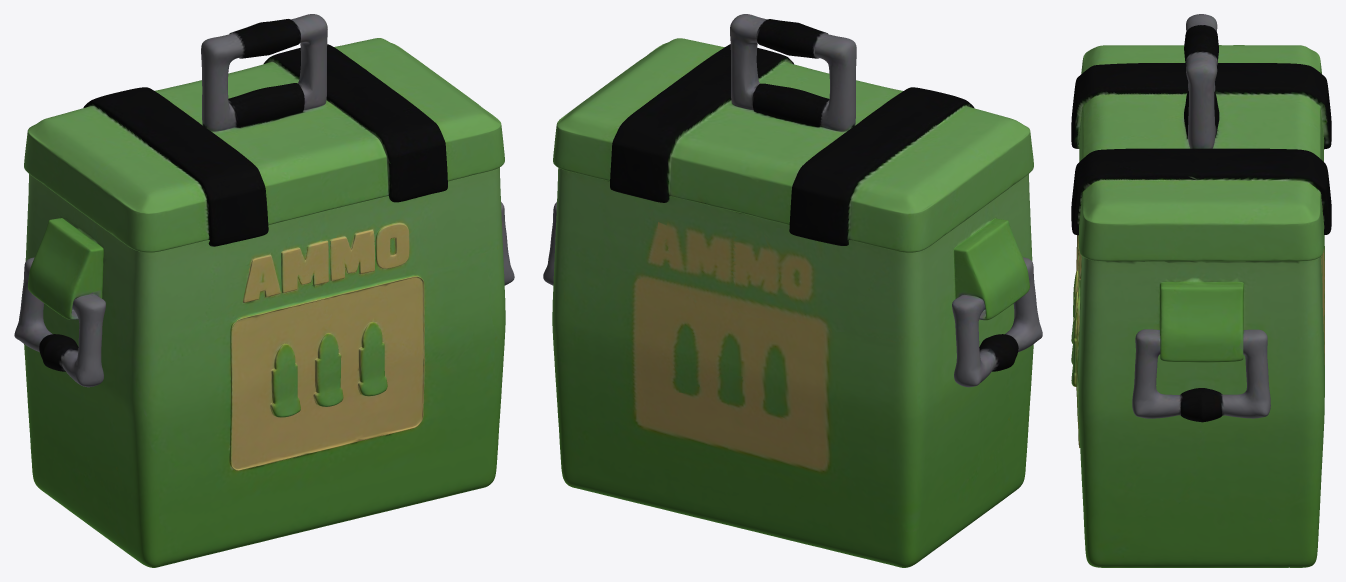
The model's file is tripo_convert_963a7127-cfcd-4fe2-9d8e-afbbd89349e0.fbx.
The picture shows the model from 3 angles, left to right: view 1: azimuth 30°, elevation 25°; view 2: azimuth 150°, elevation 25°; view 3: azimuth 270°, elevation 25°; orthographic projection. The views are drawn at different scales.
Parts seen in each view (by area): view 1: tripo_node_963a7127; view 2: tripo_node_963a7127; view 3: tripo_node_963a7127.
Boxes of the visible parts, bbox=[...] form: tripo_node_963a7127: bbox=[14, 14, 514, 567]; tripo_node_963a7127: bbox=[543, 14, 1042, 567]; tripo_node_963a7127: bbox=[1071, 14, 1331, 567].
Size of the model in its own units: 99.98 by 52.07 by 100.
Materials: 1 (1 with a texture image).
